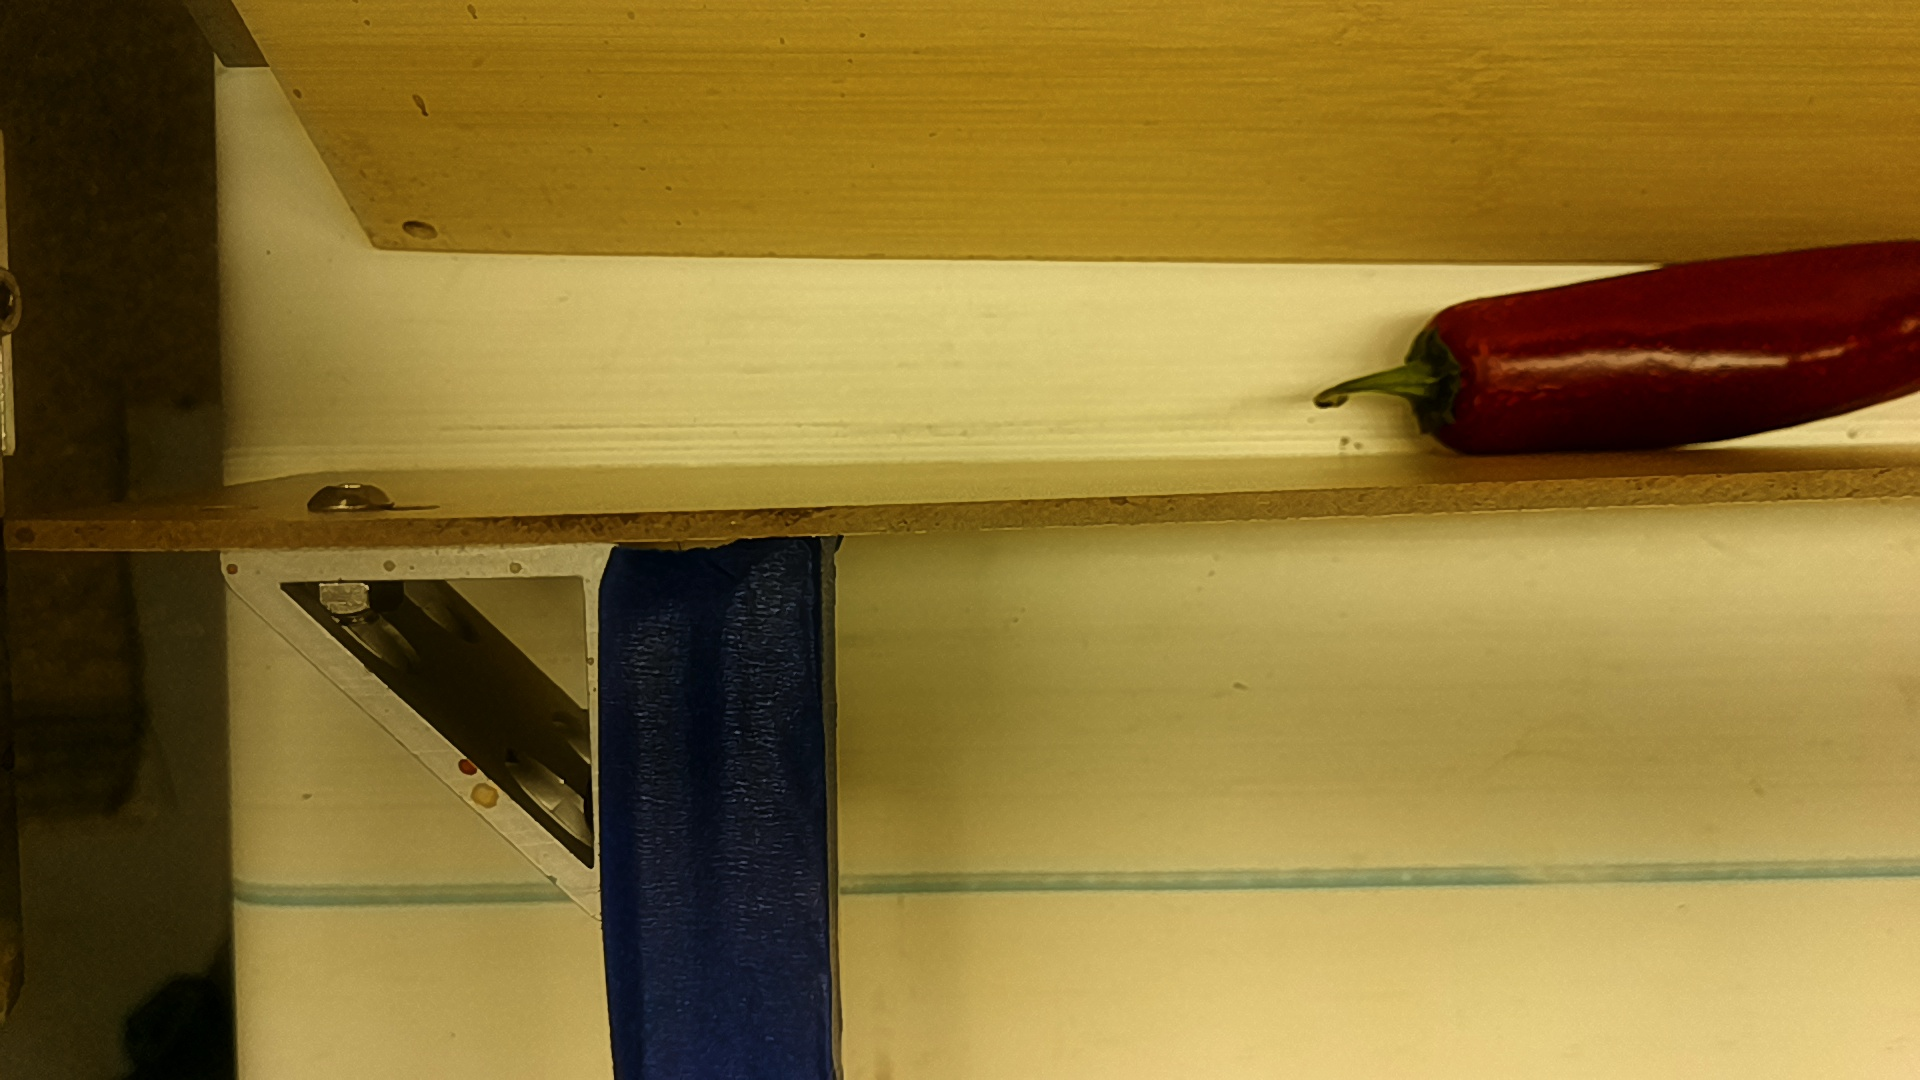Cut Point: (1394, 298, 1498, 465)
